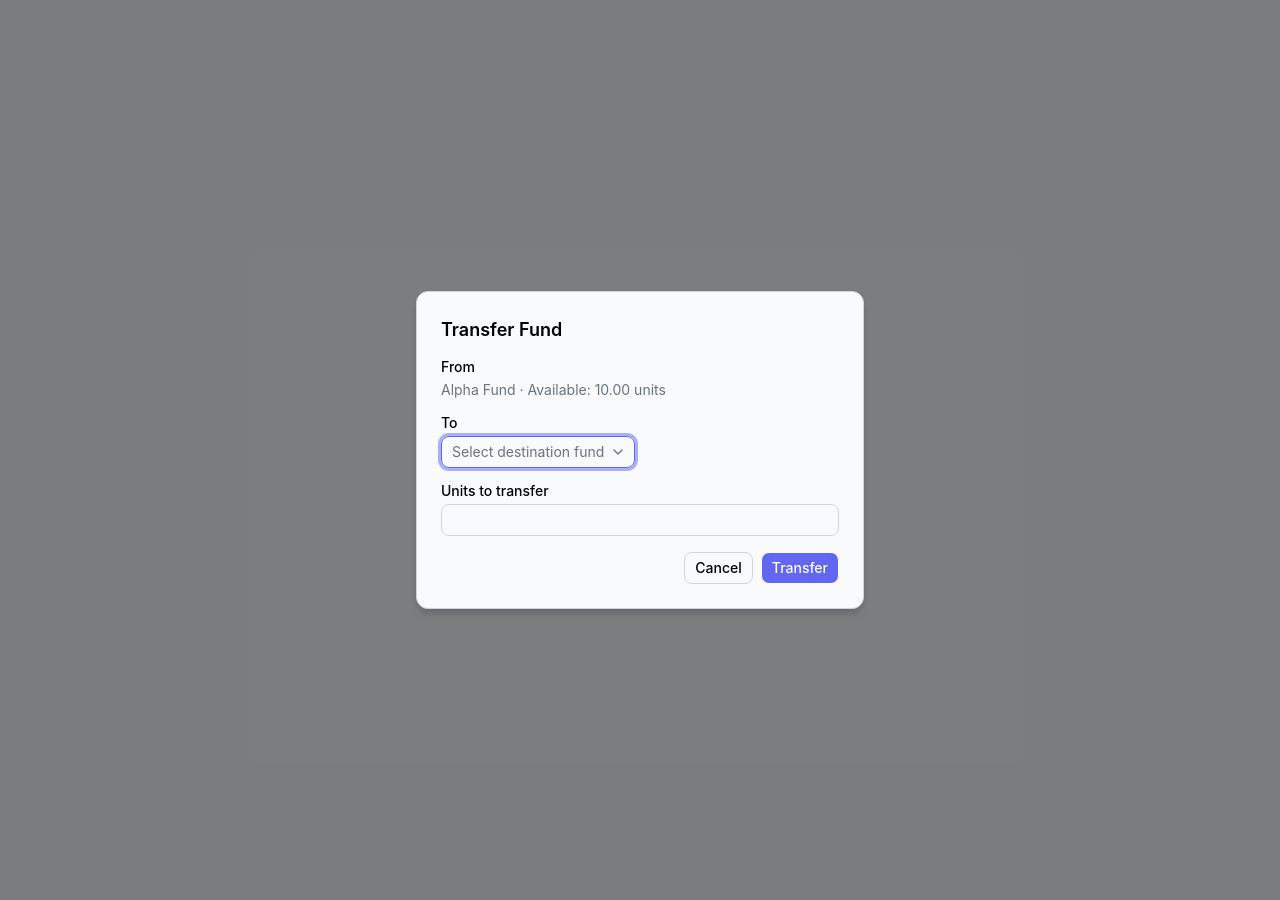
Test: TransferFundDialog › validation › shows error when no destination fund is selected on submit
Type "1" into the number field labelled "Units to transfer" at (640, 520), box [441,504,839,536]
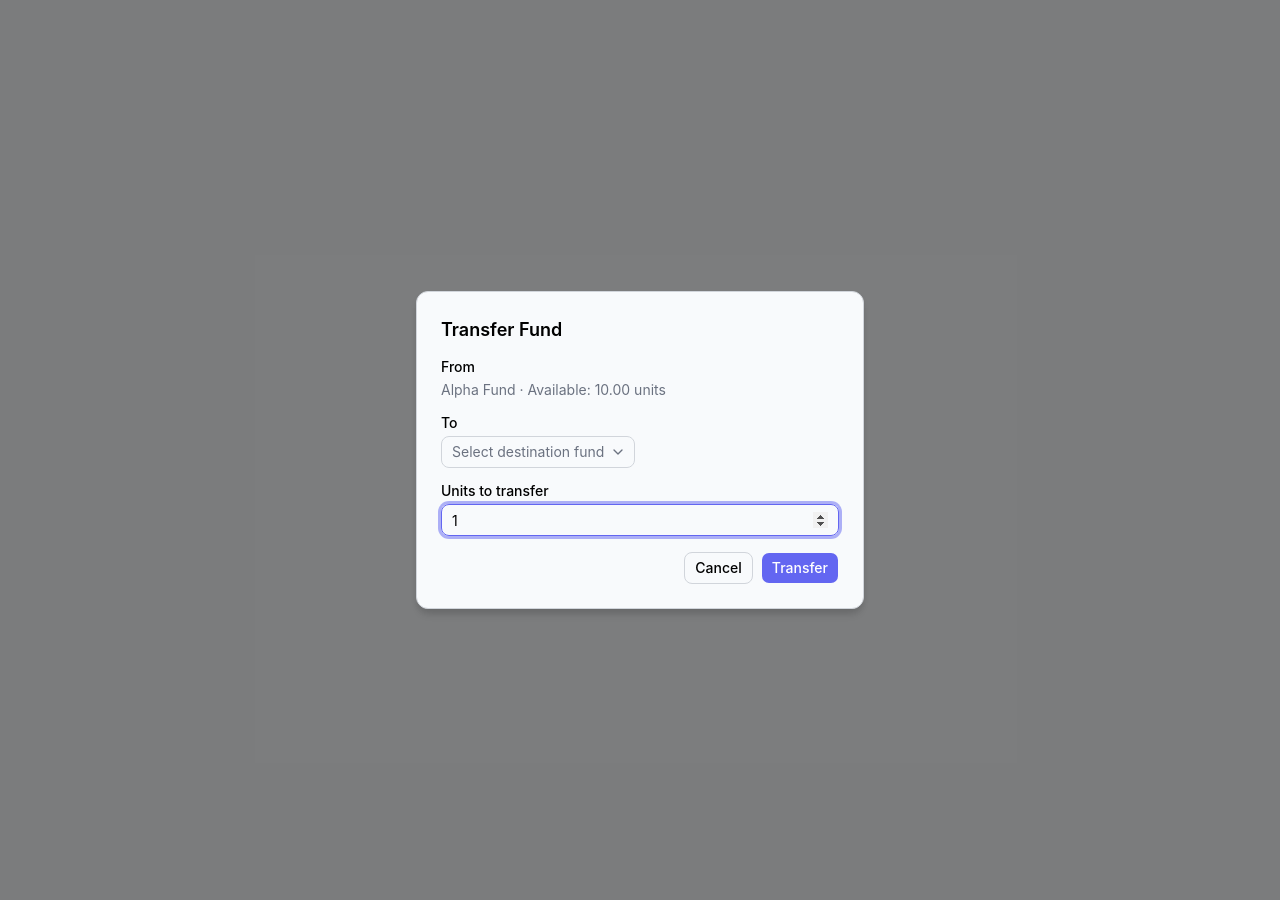
Click the button "Transfer" at (800, 568), box [761,552,839,584]
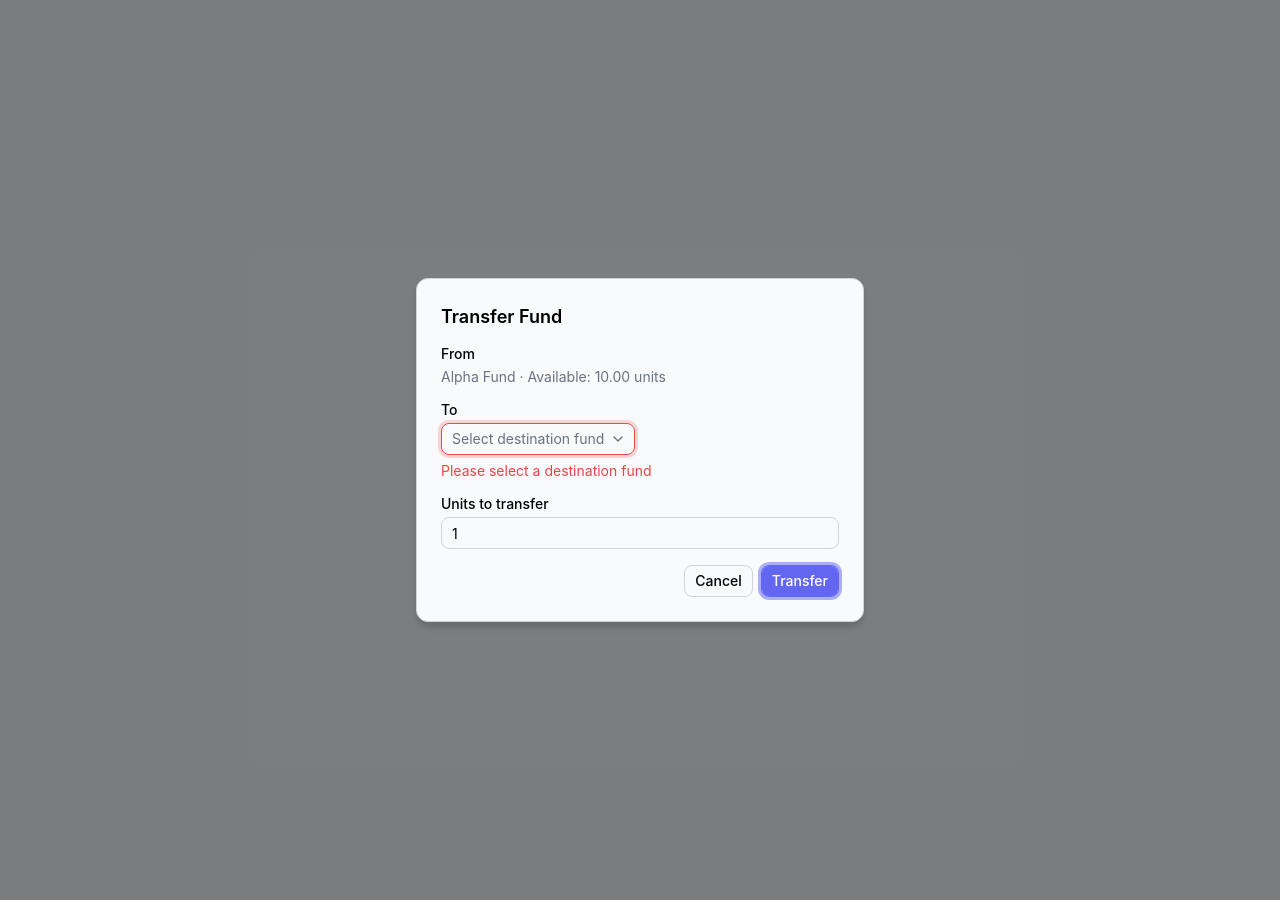
Check: the text "Please select a destination fund" is shown, box [441,462,652,479]
